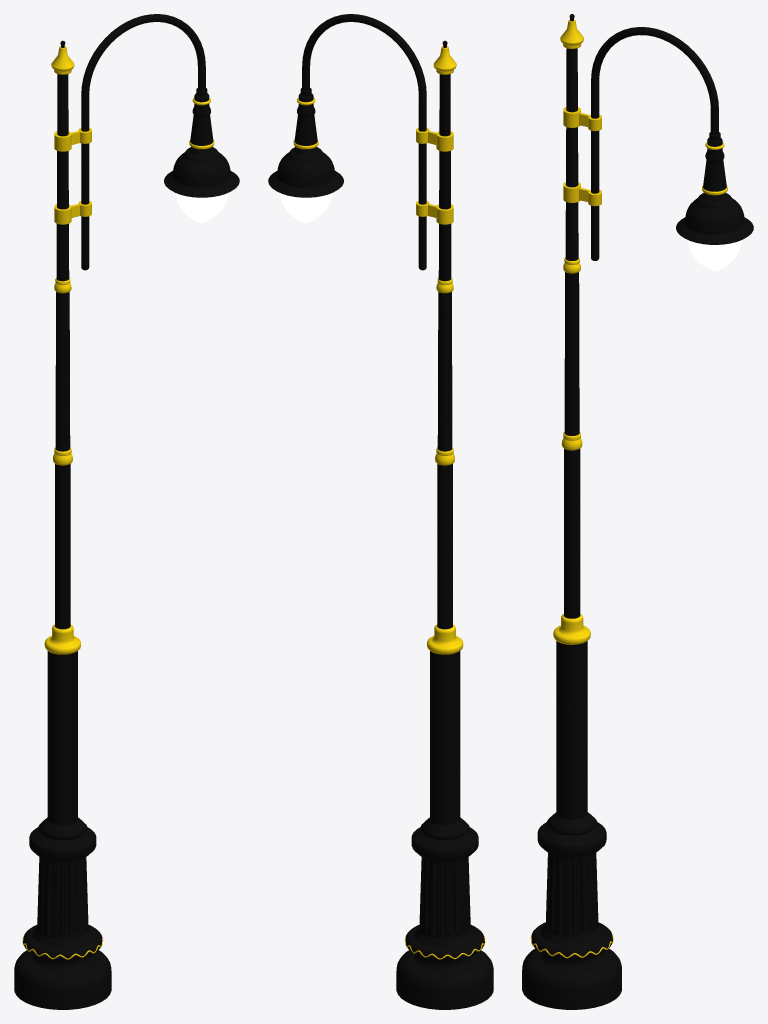
Rendered from street_lamp.glb.
3 views of the same model, side by side, from view 1: azimuth 30°, elevation 25°; view 2: azimuth 150°, elevation 25°; view 3: azimuth 330°, elevation 25° (orthographic). The views are drawn at different scales.
Visible parts, largest first — view 1: street_lamp.001_0; view 2: street_lamp.001_0; view 3: street_lamp.001_0.
Part boxes in pixels (x1=…): street_lamp.001_0: x1=14, y1=14, x2=239, y2=1009; street_lamp.001_0: x1=268, y1=14, x2=493, y2=1009; street_lamp.001_0: x1=522, y1=14, x2=753, y2=1009.
Bounding box in the file's own units: 1.42 × 6.03 × 0.559.
3 materials, 3 textured.
